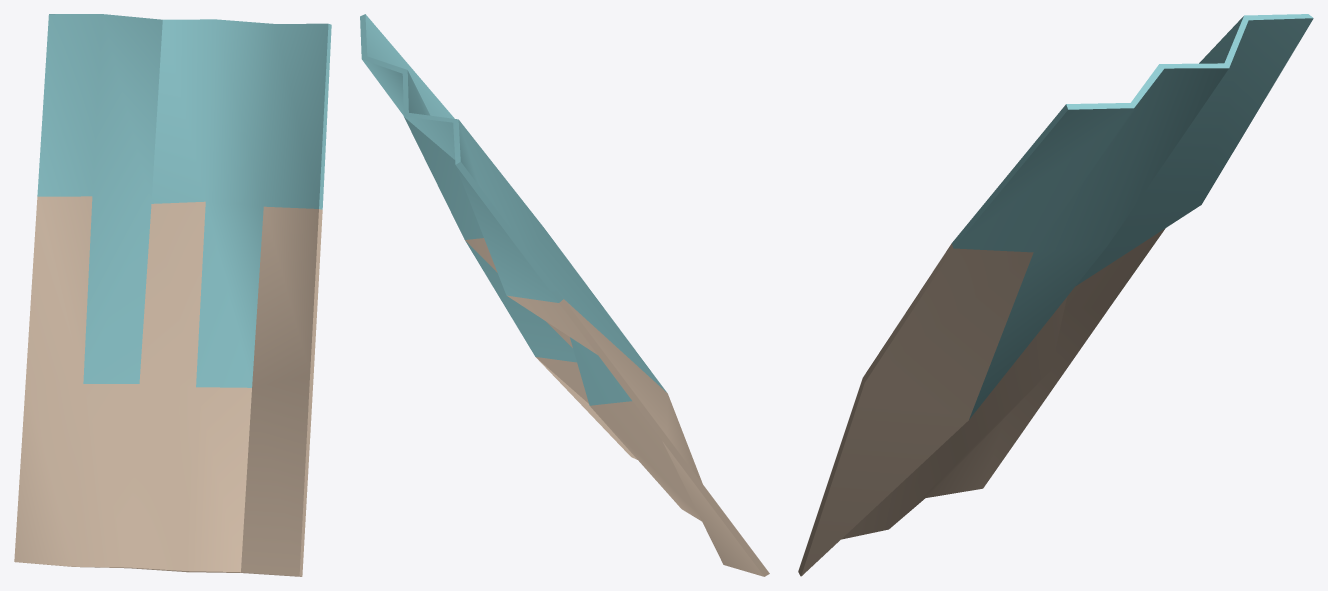
The model's file is techo5.glb.
3 renders of one model, left to right at view 1: azimuth 30°, elevation 25°; view 2: azimuth 150°, elevation 25°; view 3: azimuth 270°, elevation 25°, orthographic. The views are drawn at different scales.
Parts seen in each view (by area): view 1: Plane.006; view 2: Plane.006; view 3: Plane.006.
Part boxes in pixels (box(x1,y1,x2,y2)): Plane.006: box(14, 14, 331, 576); Plane.006: box(360, 14, 769, 576); Plane.006: box(798, 14, 1313, 576).
Size of the model in its own units: 8.08 by 10.11 by 8.43.
